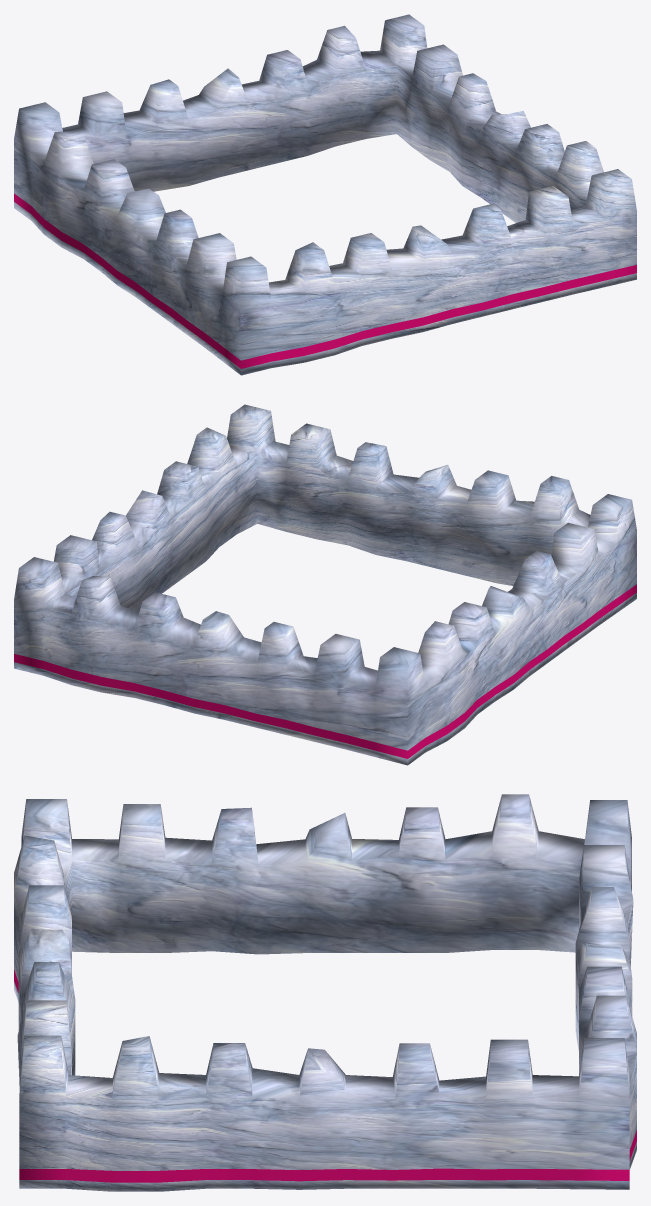
Rendered from towerTop.fbx.
The picture shows the model from 3 angles, top to bottom: view 1: azimuth 30°, elevation 25°; view 2: azimuth 150°, elevation 25°; view 3: azimuth 270°, elevation 25°; orthographic projection. The views are drawn at different scales.
Visible parts, largest first — view 1: Cube; view 2: Cube; view 3: Cube.
Part boxes in pixels (bbox=[...]): Cube: bbox=[14, 14, 636, 375]; Cube: bbox=[14, 404, 636, 765]; Cube: bbox=[14, 794, 636, 1191].
Bounding box in the file's own units: 12.24 × 3.01 × 12.24.
